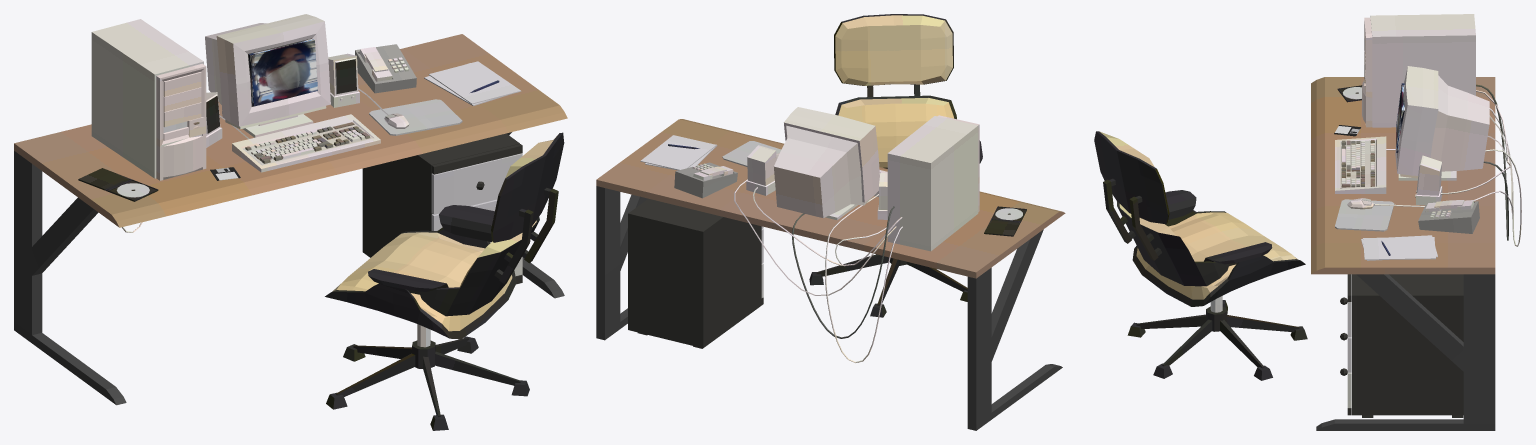
3 views of the same model, side by side, from view 1: azimuth 30°, elevation 25°; view 2: azimuth 150°, elevation 25°; view 3: azimuth 270°, elevation 25° (orthographic). The views are drawn at different scales.
Parts seen in each view (by area): view 1: Cube.000_ComputerDesk_0.001, Cube; view 2: Cube.000_ComputerDesk_0.001; view 3: Cube.000_ComputerDesk_0.001.
Boxes of the visible parts, box(x1,y1,x2,y2) form: Cube.000_ComputerDesk_0.001: box(14, 14, 567, 430); Cube: box(248, 38, 317, 106); Cube.000_ComputerDesk_0.001: box(596, 14, 1065, 430); Cube.000_ComputerDesk_0.001: box(1094, 14, 1521, 430).
Size of the model in its own units: 188 by 116 by 178.
3 materials, 3 textured.
